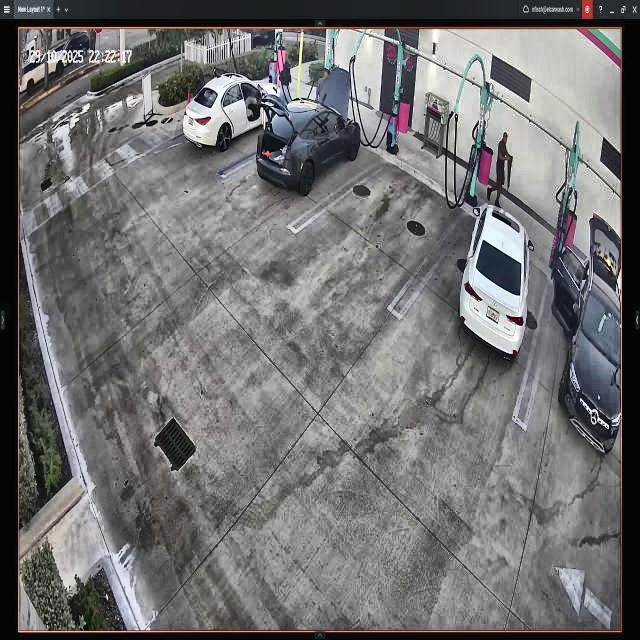Car: (258, 71, 362, 208), (460, 196, 530, 364), (181, 75, 281, 148)
